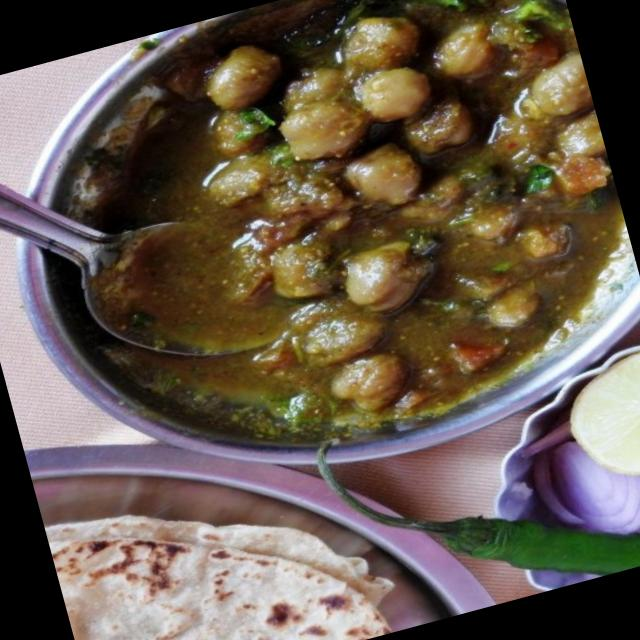Chole: (73, 0, 640, 477)
